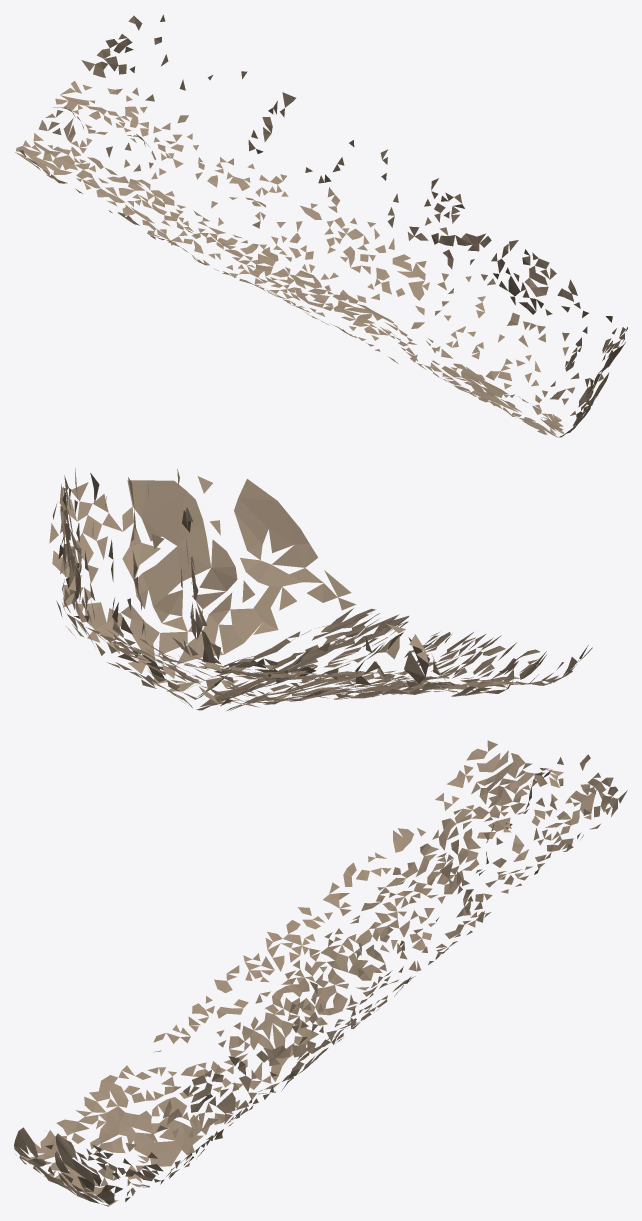
The model's file is rocky_dedo_derecho_3.obj.
3 views of the same model, one above another, from view 1: azimuth 30°, elevation 25°; view 2: azimuth 150°, elevation 25°; view 3: azimuth 270°, elevation 25° (orthographic). The views are drawn at different scales.
Bounding box in the file's own units: 0.1567 × 0.1061 × 0.1726.
1 material, 1 textured.
